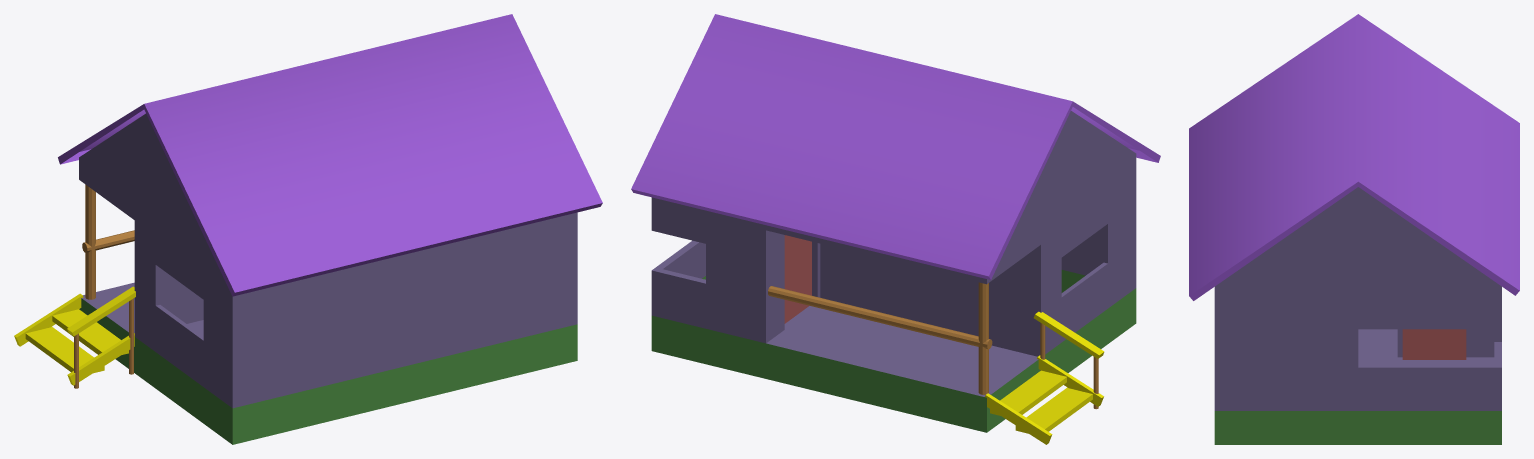
File: SM_Cabin.fbx
3 views of the same model, side by side, from view 1: azimuth 30°, elevation 25°; view 2: azimuth 150°, elevation 25°; view 3: azimuth 270°, elevation 25° (orthographic). The views are drawn at different scales.
Parts seen in each view (by area): view 1: Roof, Cabin, Step1, Step2, Log_Big, Side_Step_Right, Handrail, Side_Step_Left; view 2: Cabin, Roof, Log_Horizontal, Step2, Step1, Log_Big, Side_Step_Left, Handrail, Side_Step_Right; view 3: Cabin, Roof.
Boxes of the visible parts, x1,y1,x2,y2 form: Roof: (58,14,602,296); Cabin: (79,113,577,444); Step1: (25,326,104,373); Step2: (52,309,128,354); Log_Big: (85,184,95,299); Side_Step_Right: (67,333,134,385); Handrail: (67,286,135,336); Side_Step_Left: (14,293,83,346); Cabin: (651,111,1136,432); Roof: (631,14,1160,279); Log_Horizontal: (768,286,992,349); Step2: (990,370,1066,415); Step1: (1015,387,1092,433); Log_Big: (978,282,988,394); Side_Step_Left: (985,393,1052,444); Handrail: (1033,311,1104,358); Side_Step_Right: (1037,355,1103,406); Cabin: (1214,187,1501,444); Roof: (1189,14,1519,300).
Bounding box in the file's own units: 8.21 × 5.38 × 5.98.
